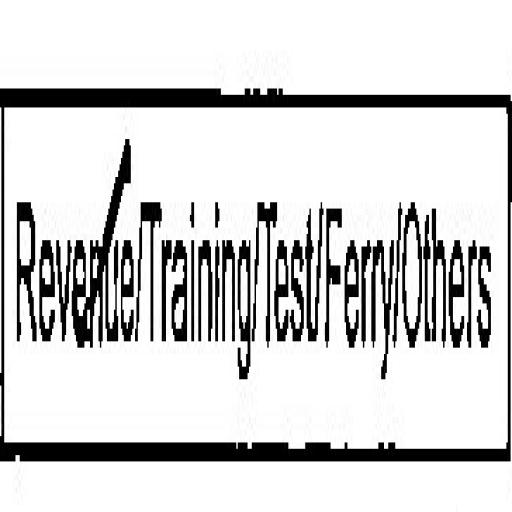check: (2, 0, 143, 512)
